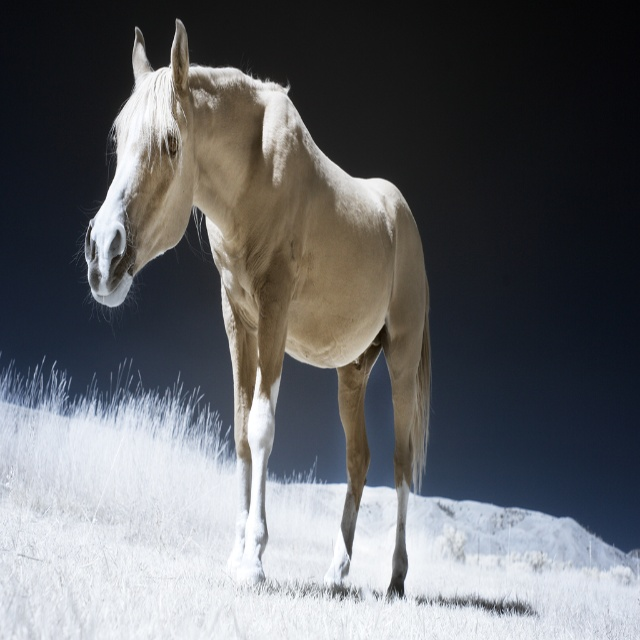Horse: (83, 19, 432, 595)
